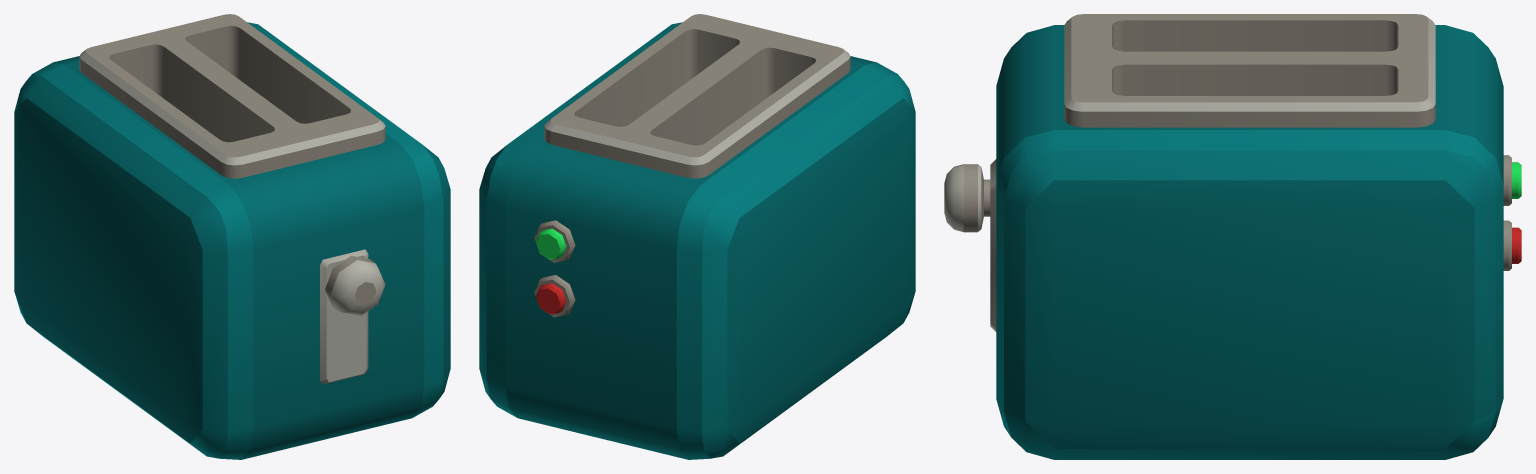
The model's file is Toster_1_A.glb.
The picture shows the model from 3 angles, left to right: view 1: azimuth 30°, elevation 25°; view 2: azimuth 150°, elevation 25°; view 3: azimuth 270°, elevation 25°; orthographic projection. The views are drawn at different scales.
Visible parts, largest first — view 1: Toster_1_A; view 2: Toster_1_A; view 3: Toster_1_A.
Boxes of the visible parts, bbox=[...] form: Toster_1_A: bbox=[14, 14, 450, 459]; Toster_1_A: bbox=[479, 14, 915, 459]; Toster_1_A: bbox=[944, 14, 1521, 459].
Bounding box in the file's own units: 0.209 × 0.2233 × 0.3373.
Materials: 2 (2 with a texture image).
